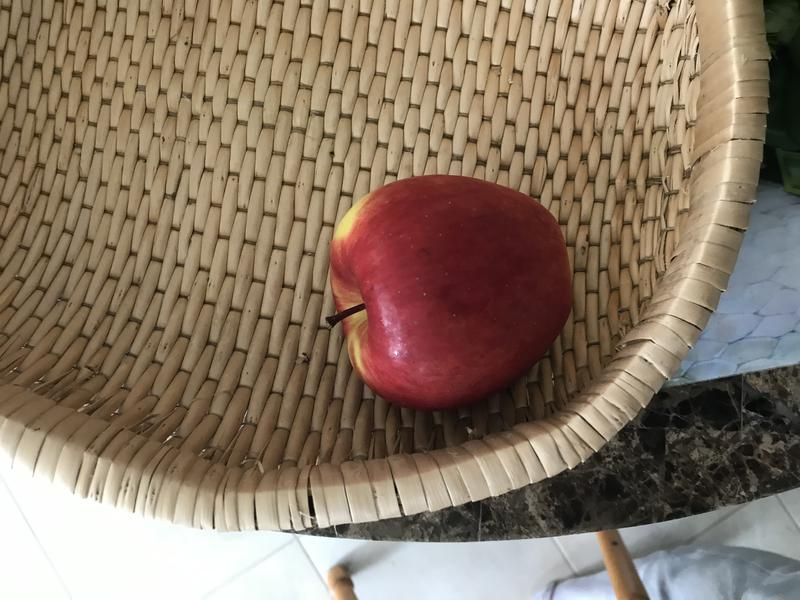red_apple: (317, 166, 580, 415)
